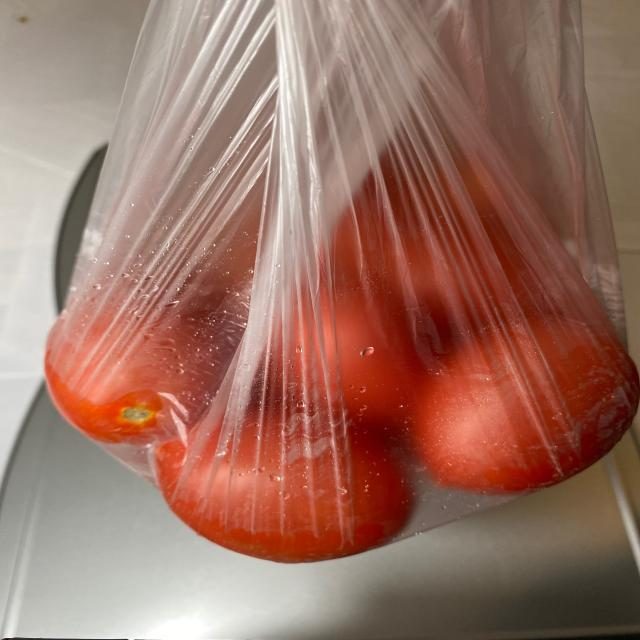tomato: (46, 163, 627, 551)
